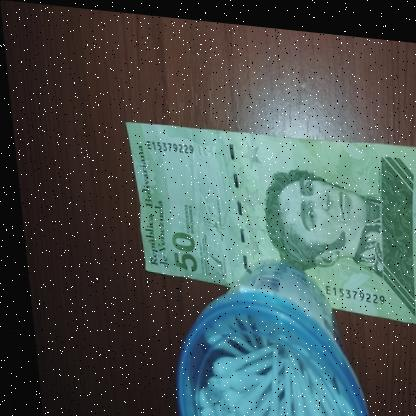fifty-front-vef: (120, 113, 416, 319)
